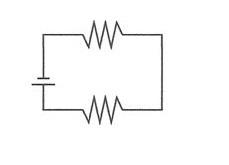resistor: (71, 12, 132, 57), (65, 89, 127, 128)
